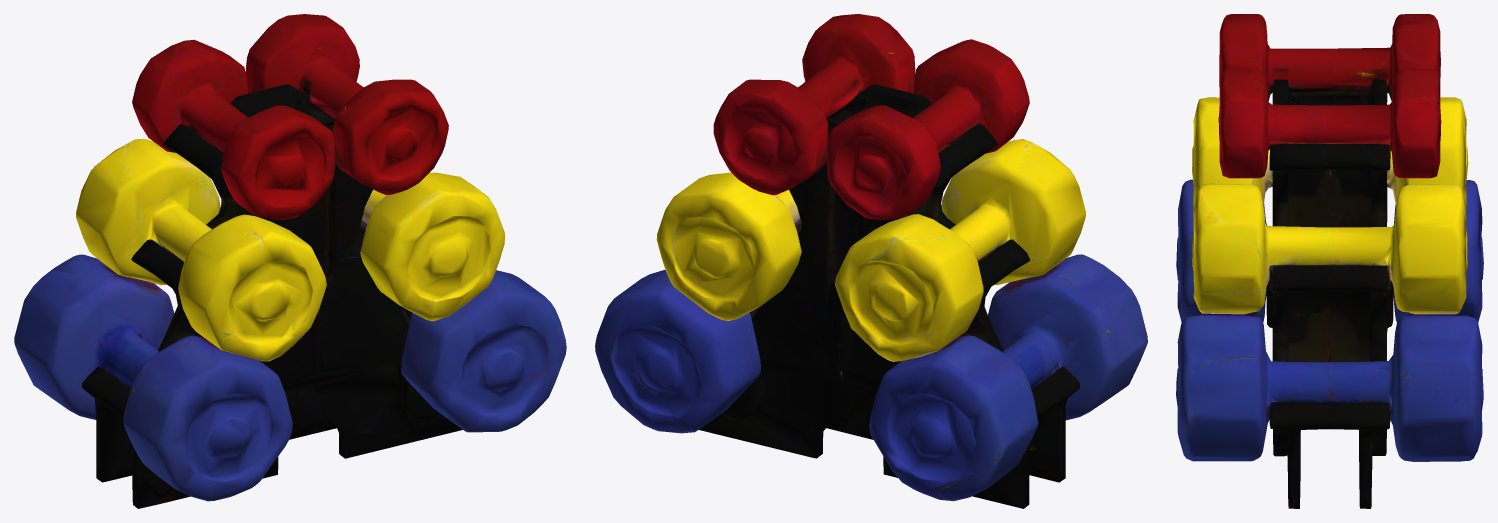
The model's file is suporte2.glb.
The picture shows the model from 3 angles, left to right: view 1: azimuth 30°, elevation 25°; view 2: azimuth 150°, elevation 25°; view 3: azimuth 270°, elevation 25°; orthographic projection.
Parts seen in each view (by area): view 1: mesh_node; view 2: mesh_node; view 3: mesh_node.
Boxes of the visible parts, x1,y1,x2,y2 form: mesh_node: [14, 14, 566, 508]; mesh_node: [595, 14, 1147, 508]; mesh_node: [1176, 14, 1483, 508].
Size of the model in its own units: 0.6132 by 0.55 by 0.4047.
1 material, 1 textured.
